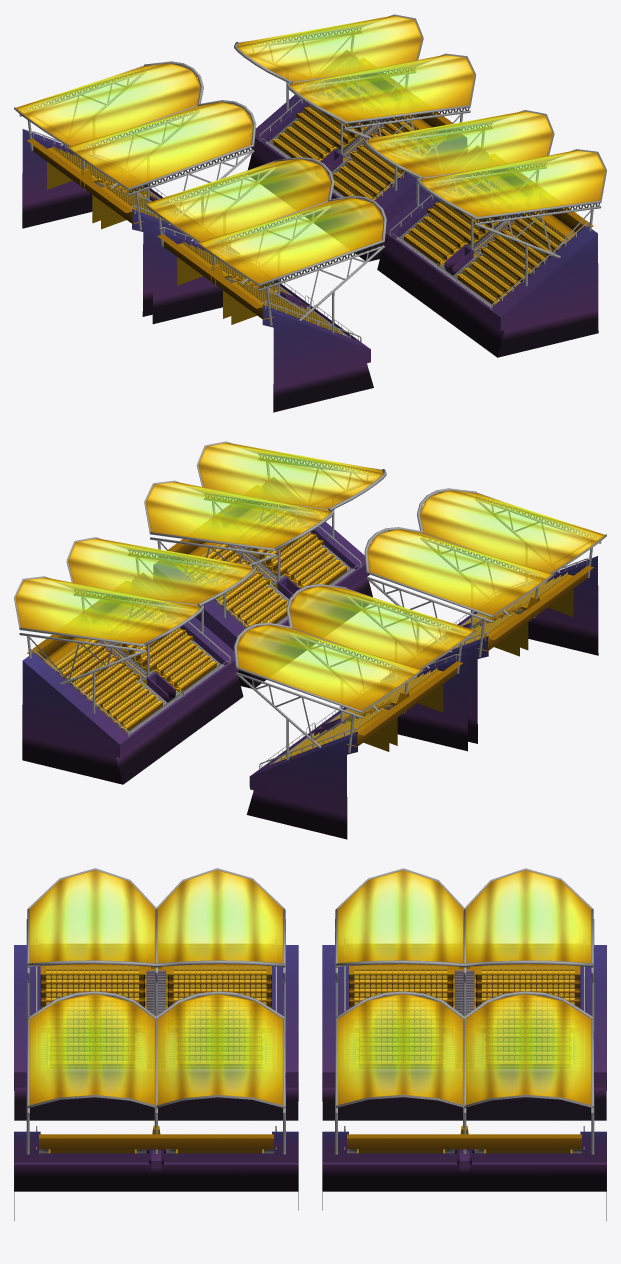
File: 01_stadium.glb
The picture shows the model from 3 angles, top to bottom: view 1: azimuth 30°, elevation 25°; view 2: azimuth 150°, elevation 25°; view 3: azimuth 270°, elevation 25°; orthographic projection. The views are drawn at different scales.
Visible parts, largest first — view 1: 01_stadium, stad_seats_01, stad_seats_02, stad_seats_04, stad_seats_03; view 2: 01_stadium, stad_seats_04, stad_seats_03, stad_seats_01, stad_seats_02; view 3: 01_stadium, stad_seats_04, stad_seats_01, stad_seats_03, stad_seats_02.
Part boxes in pixels (x1,y1,x2,y2): 01_stadium: (14,14,606,412); stad_seats_01: (237,212,567,334); stad_seats_02: (183,173,513,294); stad_seats_04: (52,77,382,198); stad_seats_03: (106,117,436,221); 01_stadium: (14,441,606,839); stad_seats_04: (52,639,383,761); stad_seats_03: (107,600,437,721); stad_seats_01: (238,504,567,625); stad_seats_02: (183,543,513,648); 01_stadium: (14,868,606,1220); stad_seats_04: (482,966,574,1062); stad_seats_01: (46,966,138,1062); stad_seats_03: (354,966,447,1062); stad_seats_02: (173,966,266,1062).
Bounding box in the file's own units: 48.07 × 17.78 × 53.03.
6 materials, 5 textured.
